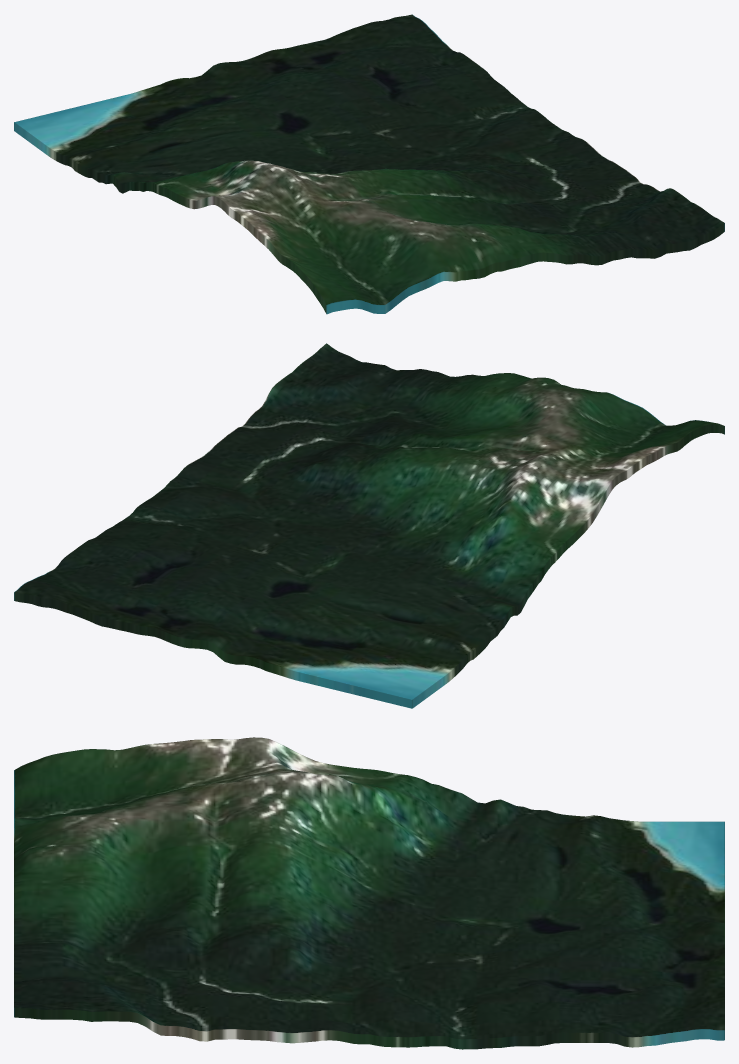
The picture shows the model from 3 angles, top to bottom: view 1: azimuth 30°, elevation 25°; view 2: azimuth 150°, elevation 25°; view 3: azimuth 270°, elevation 25°; orthographic projection. The views are drawn at different scales.
Visible parts, largest first — view 1: tile; view 2: tile; view 3: tile.
Part boxes in pixels (bbox=[...]): tile: bbox=[14, 14, 724, 314]; tile: bbox=[14, 343, 724, 708]; tile: bbox=[14, 737, 724, 1049].
Bounding box in the file's own units: 4050 × 835 × 5505.
1 material, 1 textured.
